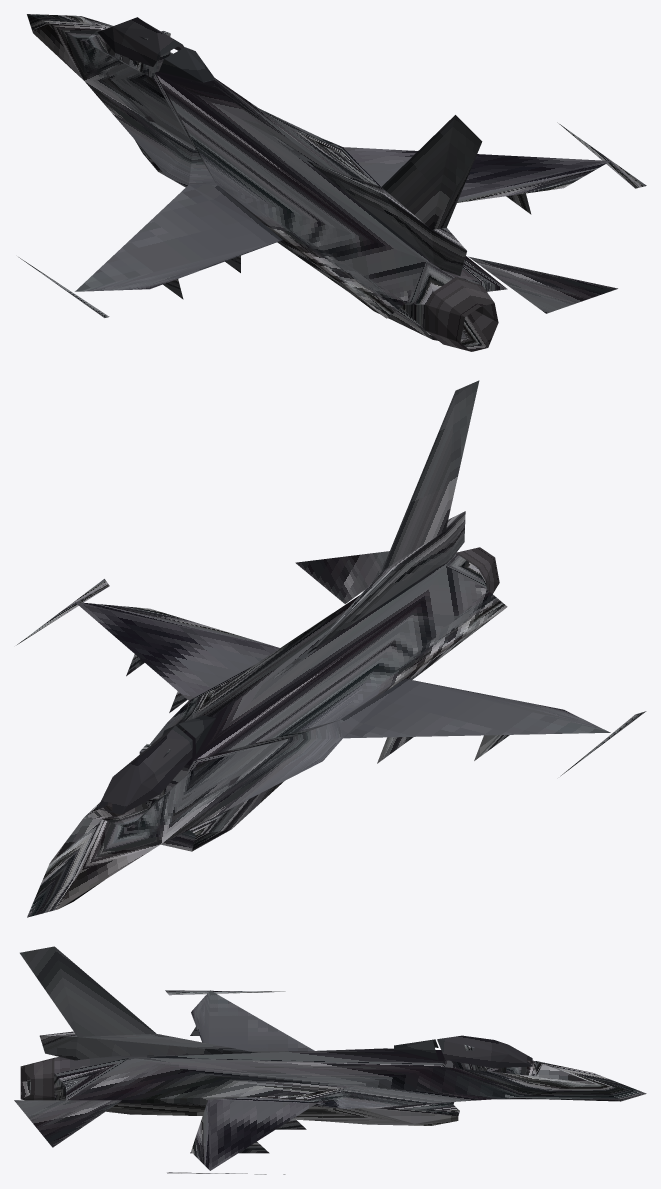
3 views of the same model, one above another, from view 1: azimuth 30°, elevation 25°; view 2: azimuth 150°, elevation 25°; view 3: azimuth 270°, elevation 25° (orthographic). The views are drawn at different scales.
Parts seen in each view (by area): view 1: Object_4; view 2: Object_4; view 3: Object_4.
Part boxes in pixels (x1=…): Object_4: x1=18, y1=14, x2=646, y2=351; Object_4: x1=16, y1=380, x2=646, y2=917; Object_4: x1=14, y1=946, x2=646, y2=1174.
Bounding box in the file's own units: 5.83 × 2.59 × 8.53.
1 material, 1 textured.
